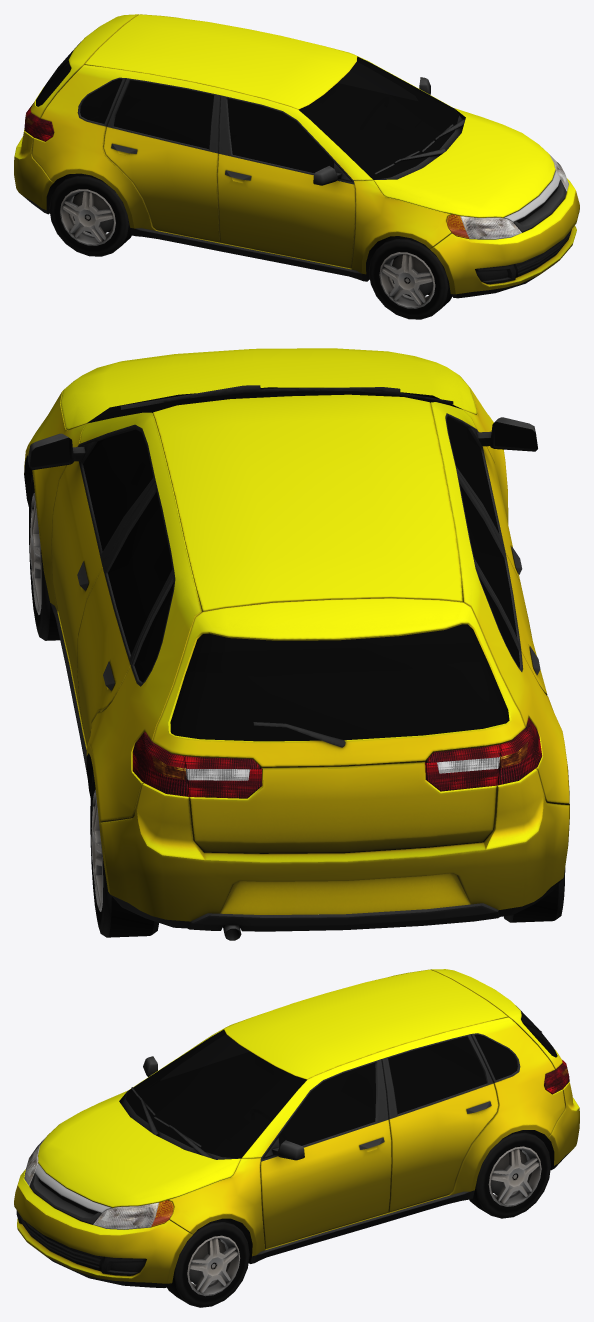
Rendered from prop_car_hatchback.glb.
3 renders of one model, top to bottom at view 1: azimuth 30°, elevation 25°; view 2: azimuth 150°, elevation 25°; view 3: azimuth 270°, elevation 25°, orthographic. The views are drawn at different scales.
Parts seen in each view (by area): view 1: car_hatchback; view 2: car_hatchback; view 3: car_hatchback.
Boxes of the visible parts, x1,y1,x2,y2 form: car_hatchback: (14,14,579,319); car_hatchback: (24,348,569,940); car_hatchback: (14,969,579,1307).
Size of the model in its own units: 3.11 by 1.35 by 3.7.
Materials: 4 (3 with a texture image).
